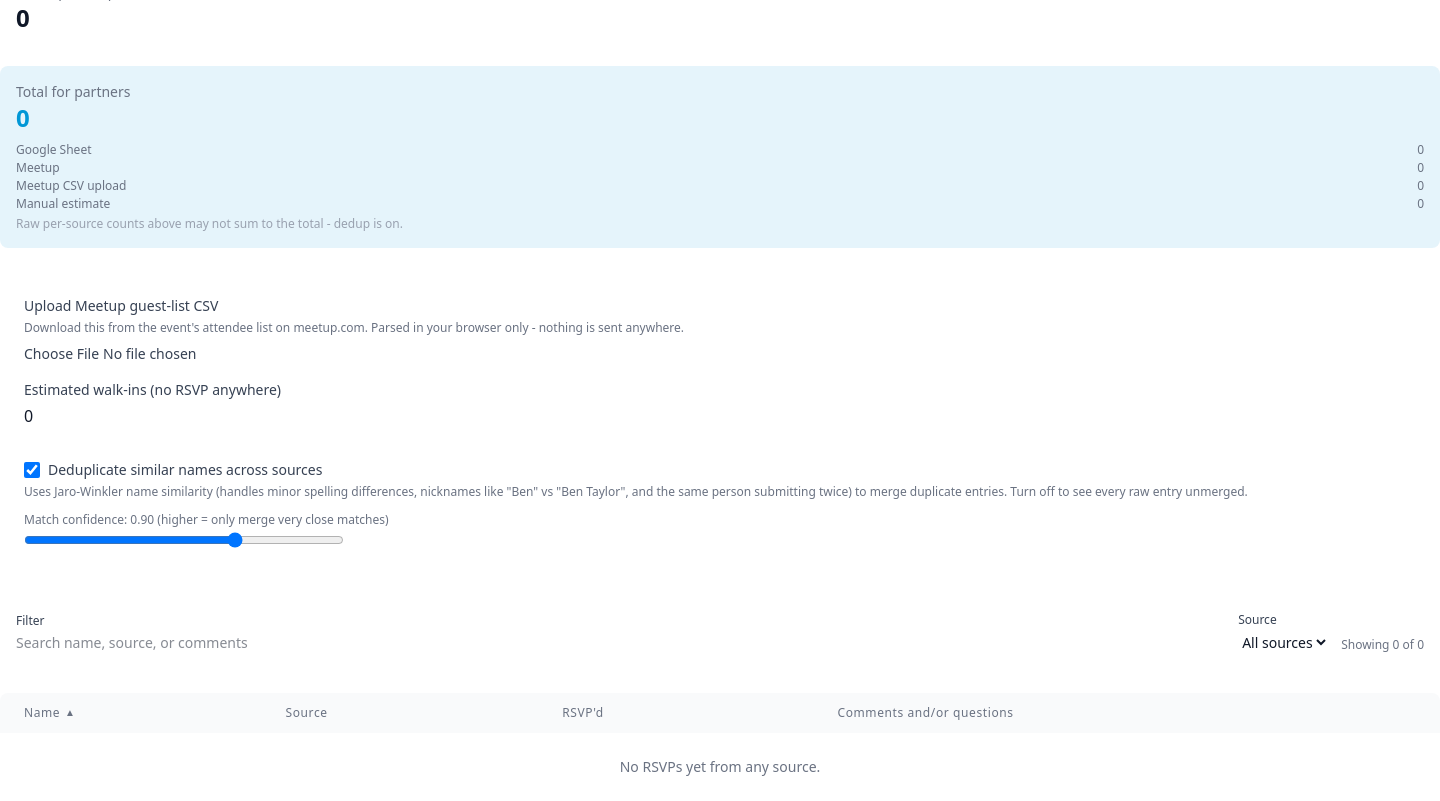
Test: RsvpReportPage - CSV upload and manual estimate › updates the manual walk-in estimate and reflects it in the total
(page scrolled)
Replace the text in the number field labelled "Estimated walk-ins (no RSVP anywhere)" with "3" at (88, 416), box [24,404,152,428]
(page scrolled)
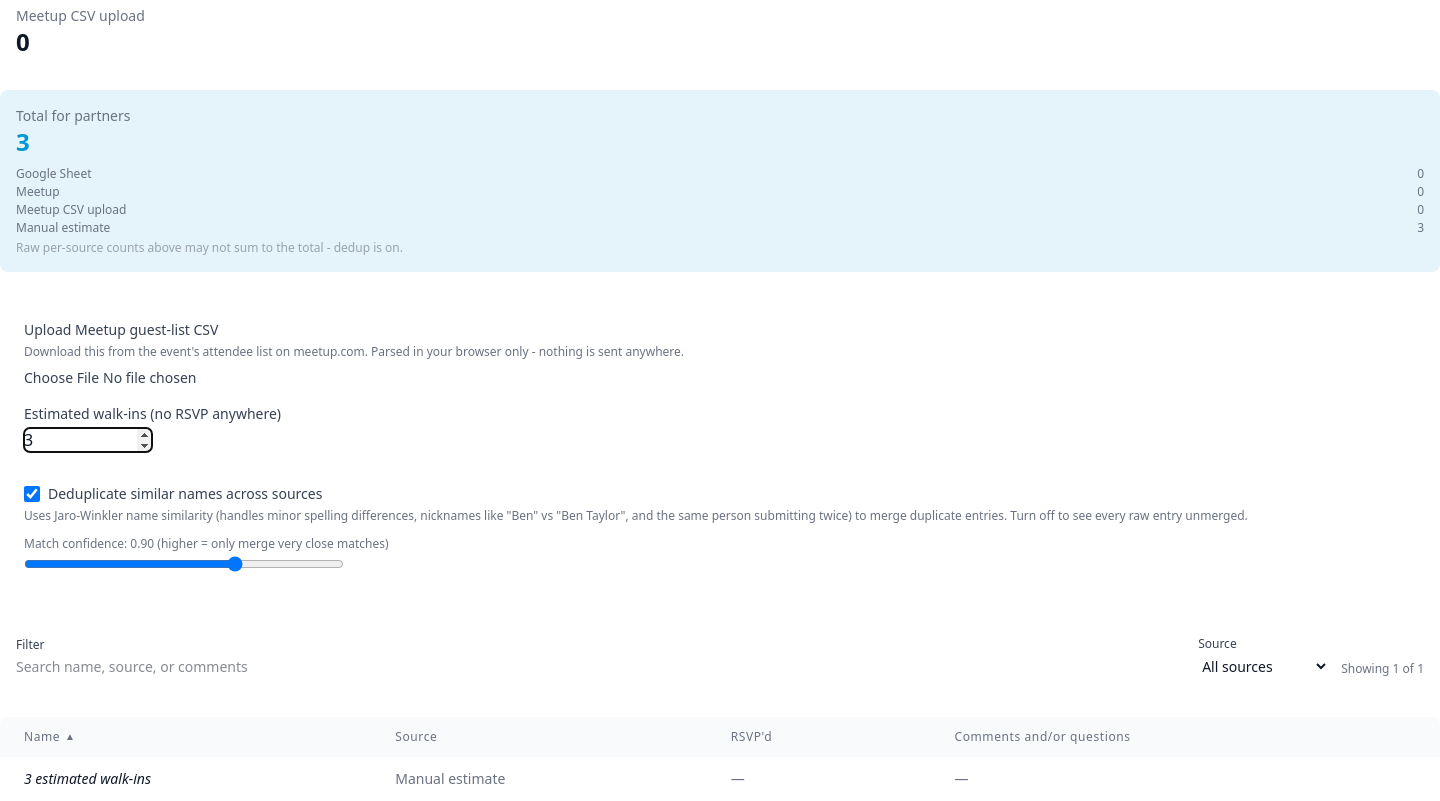
Now the text "3 estimated walk-ins" is shown, box [0,757,371,800]
